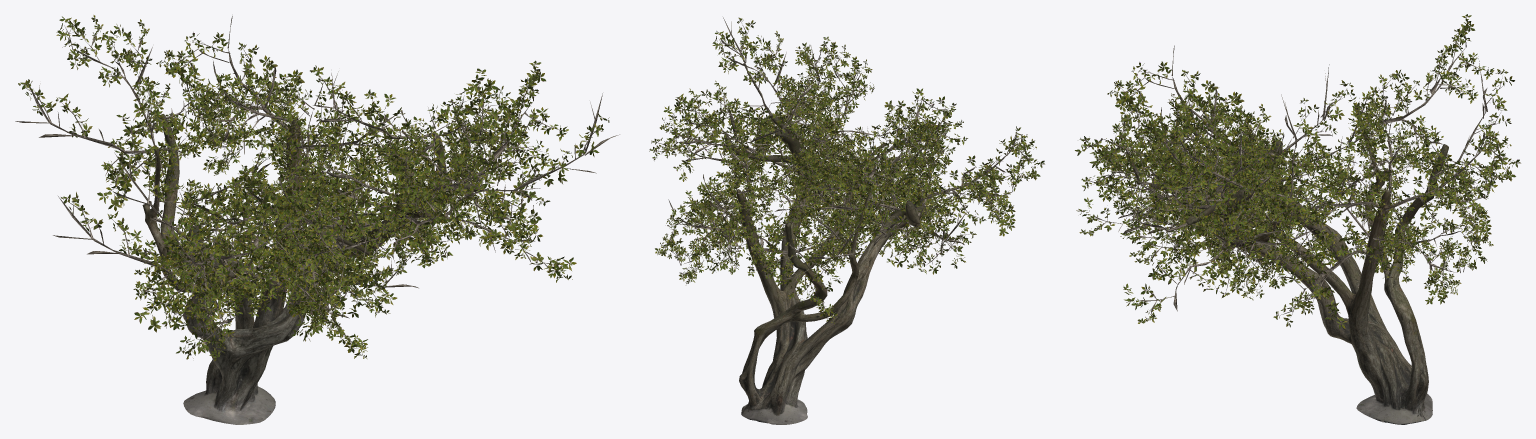
The picture shows the model from 3 angles, left to right: view 1: azimuth 30°, elevation 25°; view 2: azimuth 150°, elevation 25°; view 3: azimuth 270°, elevation 25°; orthographic projection. The views are drawn at different scales.
Parts seen in each view (by area): view 1: island_tree_02_LOD0.002, island_tree_02_LOD0, island_tree_02_LOD0.001; view 2: island_tree_02_LOD0.002, island_tree_02_LOD0.001, island_tree_02_LOD0; view 3: island_tree_02_LOD0.002, island_tree_02_LOD0, island_tree_02_LOD0.001.
Part boxes in pixels (<box>): island_tree_02_LOD0.002: <box>18,15,609,360</box>; island_tree_02_LOD0: <box>15,16,619,355</box>; island_tree_02_LOD0.001: <box>142,114,482,424</box>; island_tree_02_LOD0.002: <box>649,17,1044,323</box>; island_tree_02_LOD0.001: <box>723,115,926,424</box>; island_tree_02_LOD0: <box>653,17,1034,314</box>; island_tree_02_LOD0.002: <box>1075,14,1520,328</box>; island_tree_02_LOD0: <box>1082,23,1508,320</box>; island_tree_02_LOD0.001: <box>1150,105,1448,424</box>.
Size of the model in its own units: 4.08 by 3.41 by 4.07.
3 materials, 3 textured.
